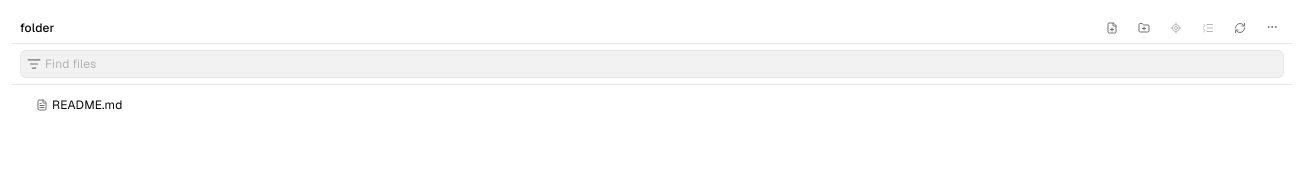
Test: create (#163) › creates a folder at the root and shows it after the reload
Click the button named "New Folder" at (1144,28), box [1132,16,1156,40]
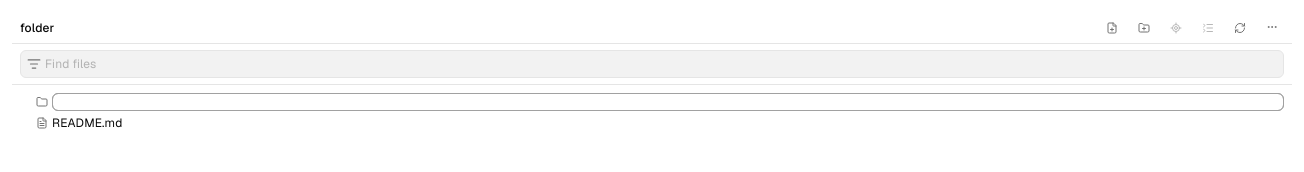
Type "qadir" into the field named "New folder name" at (668,102), box [52,93,1284,111]
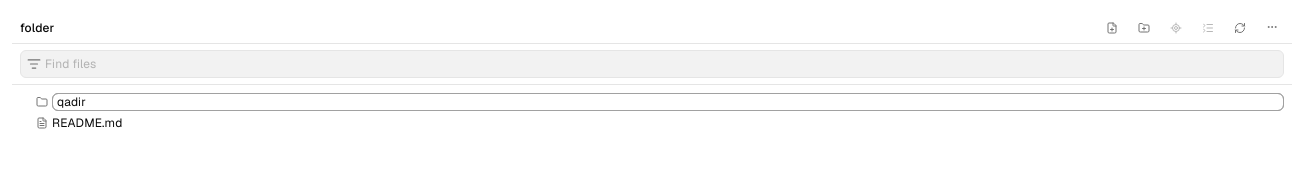
Press Enter in the field named "New folder name", box [52,93,1284,111]
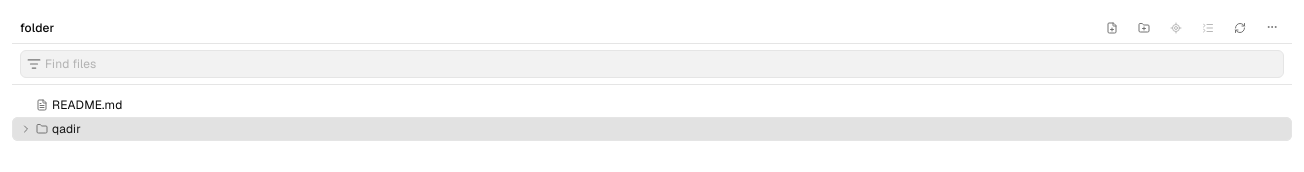
Result: the button "qadir" is shown at [12,117,1292,141]
